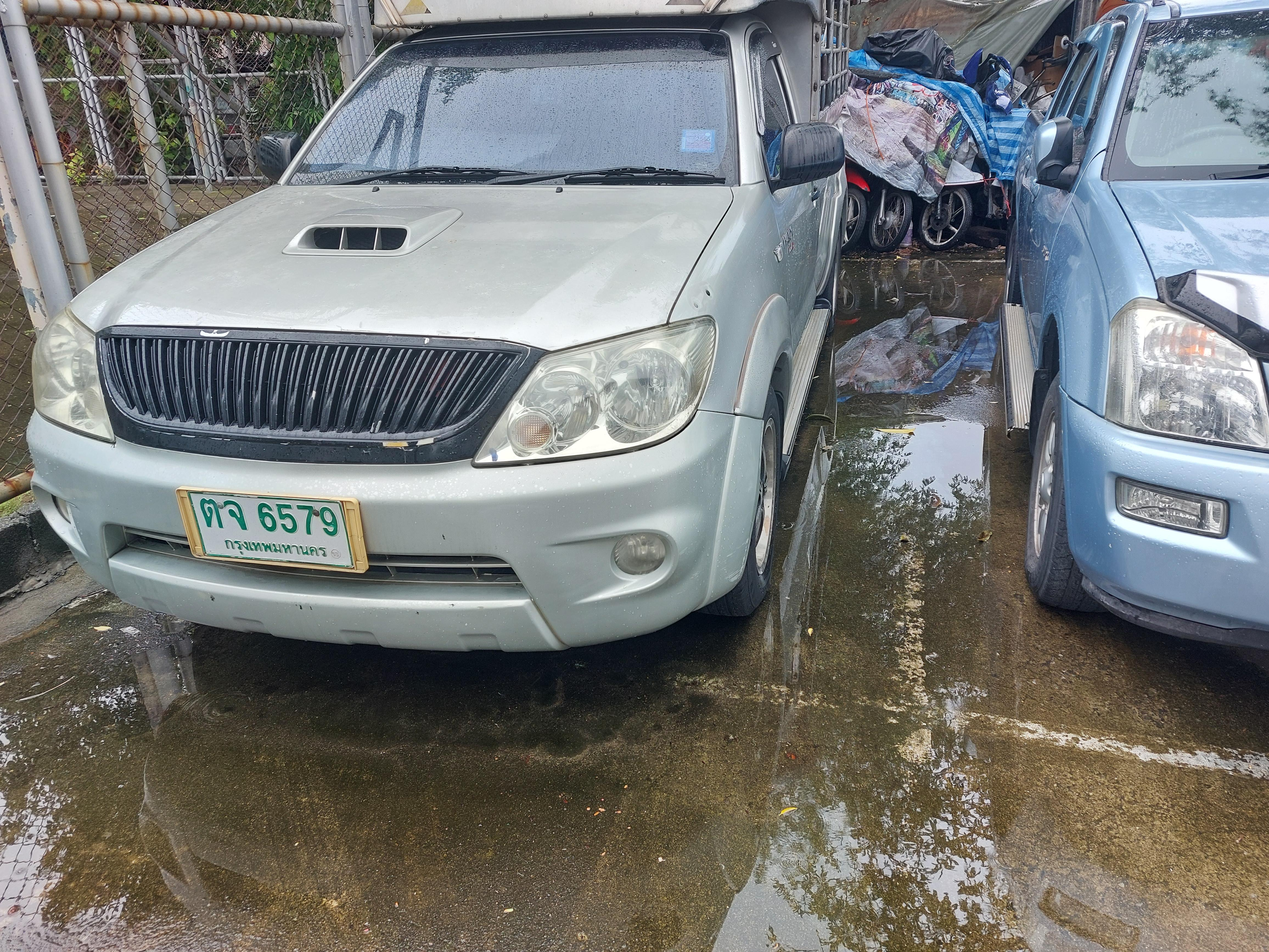license-plate: (173, 485, 370, 575)
